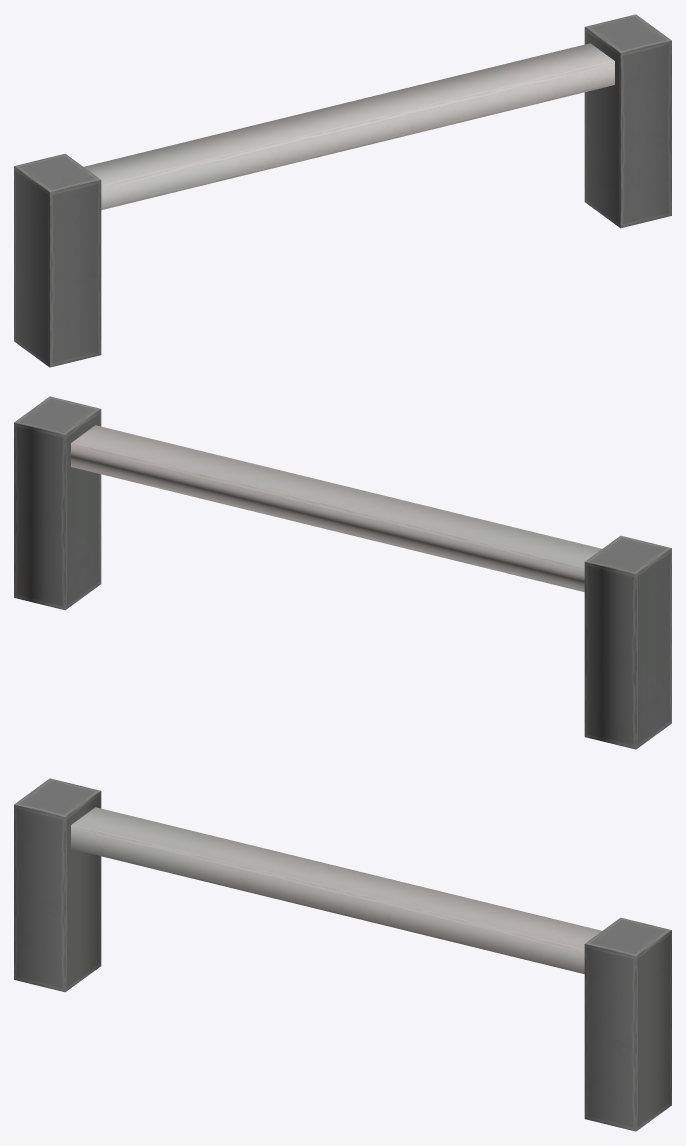
File: SM_Fence_02_D.glb
3 views of the same model, one above another, from view 1: azimuth 30°, elevation 25°; view 2: azimuth 150°, elevation 25°; view 3: azimuth 330°, elevation 25° (orthographic).
Parts seen in each view (by area): view 1: SM_Fence_02_D; view 2: SM_Fence_02_D; view 3: SM_Fence_02_D.
Part boxes in pixels (x1,y1,x2,y2): SM_Fence_02_D: (14, 14, 671, 367); SM_Fence_02_D: (14, 396, 671, 749); SM_Fence_02_D: (14, 778, 671, 1131).
Bounding box in the file's own units: 2.18 × 0.5867 × 0.2177.
1 material, 1 textured.
